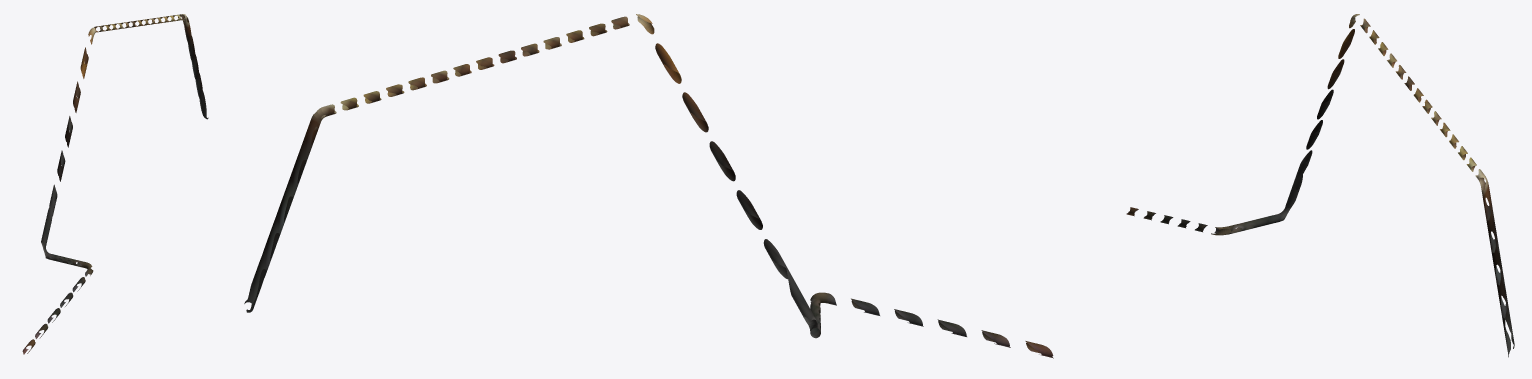
Rendered from wire2.fbx.
3 renders of one model, left to right at view 1: azimuth 30°, elevation 25°; view 2: azimuth 150°, elevation 25°; view 3: azimuth 270°, elevation 25°, orthographic. The views are drawn at different scales.
Visible parts, largest first — view 1: wire2; view 2: wire2; view 3: wire2.
Part boxes in pixels (left/top/right/bottom): wire2: left=22, top=14, right=208, bottom=354; wire2: left=244, top=14, right=1053, bottom=358; wire2: left=1126, top=14, right=1514, bottom=357.
Bounding box in the file's own units: 5.33 × 3.4 × 4.09.
1 material, 1 textured.
